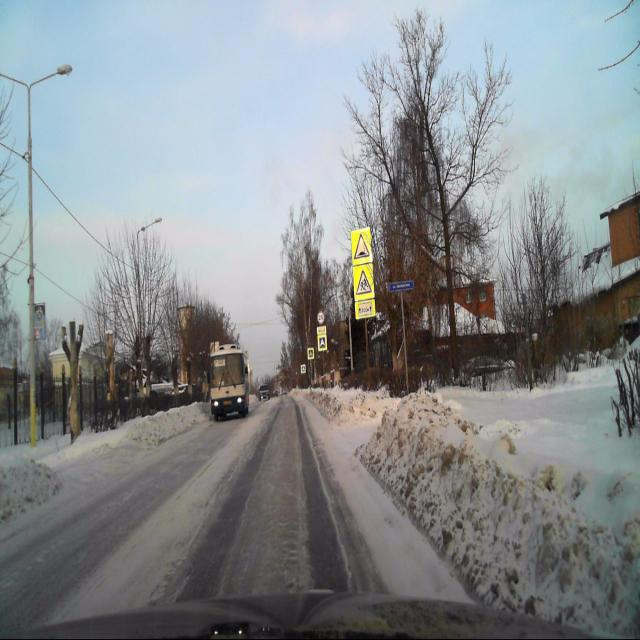object: (364, 322, 370, 388)
road sign: (352, 263, 374, 300), (350, 228, 372, 264), (354, 300, 376, 318), (317, 334, 327, 351)
